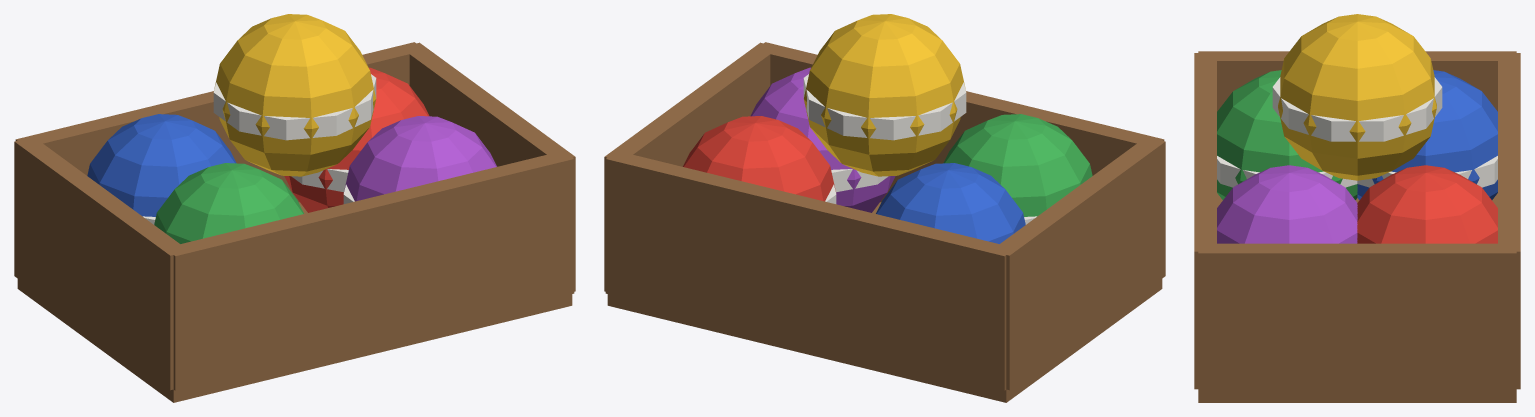
File: bowl_stolen_balls.glb
3 views of the same model, side by side, from view 1: azimuth 30°, elevation 25°; view 2: azimuth 150°, elevation 25°; view 3: azimuth 270°, elevation 25° (orthographic). The views are drawn at different scales.
Visible parts, largest first — view 1: sides_crate_wood, balls, bottom_crate_wood, bands_name_band; view 2: sides_crate_wood, balls, bottom_crate_wood, bands_name_band; view 3: sides_crate_wood, balls, bands_name_band, bottom_crate_wood.
Part boxes in pixels (left/top/right/bottom): sides_crate_wood: left=14, top=42, right=575, bottom=390; balls: left=87, top=14, right=496, bottom=243; bottom_crate_wood: left=17, top=202, right=572, bottom=402; bands_name_band: left=143, top=74, right=376, bottom=224; sides_crate_wood: left=604, top=42, right=1165, bottom=390; balls: left=683, top=14, right=1092, bottom=243; bottom_crate_wood: left=607, top=202, right=1162, bottom=402; bands_name_band: left=803, top=74, right=1036, bottom=224; sides_crate_wood: left=1194, top=51, right=1520, bottom=390; balls: left=1217, top=14, right=1497, bottom=243; bands_name_band: left=1217, top=77, right=1497, bottom=187; bottom_crate_wood: left=1198, top=193, right=1516, bottom=402.
Size of the model in its own units: 0.63 by 0.41 by 0.43.
